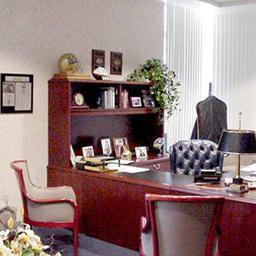Ventana: (167, 8, 255, 136)
